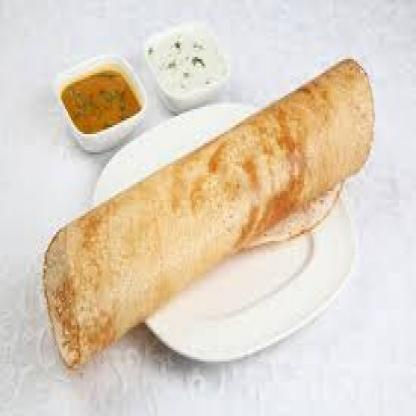dosa: (43, 58, 375, 370)
